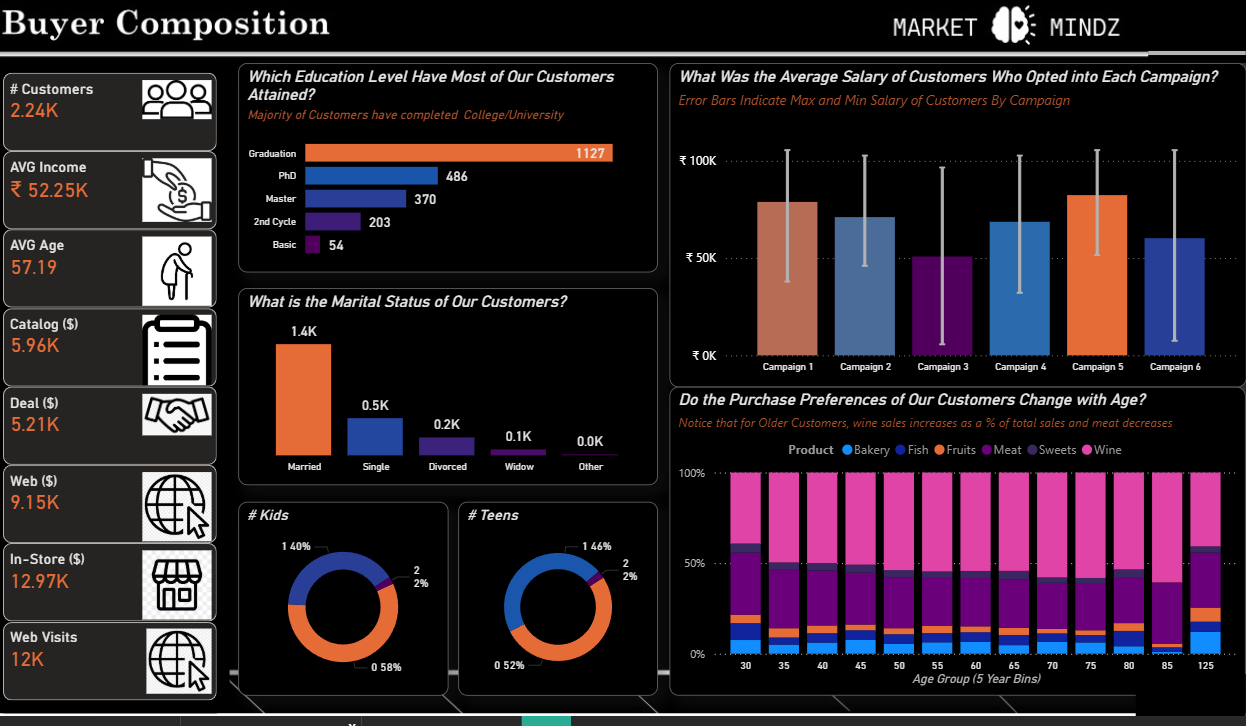

The page's visual inventory and layout, read from the dashboard file:
{"tool":"powerbi","page":{"name":"Buyer Composition","canvas":[1280,720],"ordinal":1},"visuals":[{"type":"barChart","title":"Which Education Level Have Most of Our Customers Attained?","fields":{"Category":["marketmindz_research_data (1).Education"],"Y":["CountNonNull(marketmindz_research_data (1).ID)"]},"box":[290.9,78.2,411.7,205.8],"z":0},{"type":"columnChart","title":"What is the Marital Status of Our Customers?","fields":{"Y":["CountNonNull(marketmindz_research_data (1).ID)"],"Category":["marketmindz_research_data (1).Marital_Status"]},"box":[290.9,299.1,411.7,193.5],"z":1000},{"type":"donutChart","title":"# Kids","fields":{"Category":["marketmindz_research_data (1).Kidhome"],"Y":["Count(marketmindz_research_data (1).ID)"]},"box":[290.8,509.2,206.1,190.2],"z":2000},{"type":"donutChart","title":"# Teens","fields":{"Y":["Count(marketmindz_research_data (1).ID)"],"Category":["marketmindz_research_data (1).Teenhome"]},"box":[506.8,509.2,196.3,190.2],"z":3000},{"type":"columnChart","title":"What Was the Average Salary of Customers Who Opted into Each Campaign?","fields":{"Category":["campaign.Campaign"],"Y":["Avg(marketmindz_research_data (1). Income )"]},"box":[713.6,78.2,566.7,318.4],"z":4000},{"type":"hundredPercentStackedColumnChart","title":"Do the Purchase Preferences of Our Customers Change with Age?","fields":{"Y":["Sum(products.Total Sales)"],"Series":["products.Product"],"Category":["marketmindz_research_data (1).Age Group"]},"box":[714.1,396.3,565.6,303.1],"z":5000},{"type":"cardVisual","fields":{"Data":["CountNonNull(marketmindz_research_data (1).ID)","Avg(marketmindz_research_data (1). Income )","Avg(marketmindz_research_data (1).Age)","Sum(marketmindz_research_data (1).Purchased-Catalog)","Sum(marketmindz_research_data (1).Purchased-Deal)","Sum(marketmindz_research_data (1).Purchased-Web)","Sum(marketmindz_research_data (1).Purchased-Store)","Sum(marketmindz_research_data (1).Monthly Web Visits)"]},"box":[47.9,76.1,234.4,640.5],"z":6000},{"type":"textbox","box":[1184.1,0,95.7,78.5],"z":7000},{"type":"textbox","box":[1171.8,678.5,108,41.7],"z":8000},{"type":"shape","box":[1184.1,0,95.7,137.4],"z":9000}]}

Visuals, with their boxes on the page's 1280x720 design canvas (x1, y1, x2, y2). These are canvas units, not pixel positions in the 1246x726 screenshot, which may show the page scaled, cropped or inside an application window:
"Which Education Level Have Most of Our Customers Attained?" barChart: l=291, t=78, r=703, b=284
"What is the Marital Status of Our Customers?" columnChart: l=291, t=299, r=703, b=493
"# Kids" donutChart: l=291, t=509, r=497, b=699
"# Teens" donutChart: l=507, t=509, r=703, b=699
"What Was the Average Salary of Customers Who Opted into Each Campaign?" columnChart: l=714, t=78, r=1280, b=397
"Do the Purchase Preferences of Our Customers Change with Age?" hundredPercentStackedColumnChart: l=714, t=396, r=1280, b=699
cardVisual - CountNonNull(marketmindz_research_data (1).ID) x Avg(marketmindz_research_data (1). Income ): l=48, t=76, r=282, b=717
textbox: l=1184, t=0, r=1280, b=78
textbox: l=1172, t=678, r=1280, b=720
shape: l=1184, t=0, r=1280, b=137
